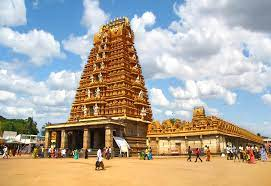Temple: (69, 16, 153, 131)
